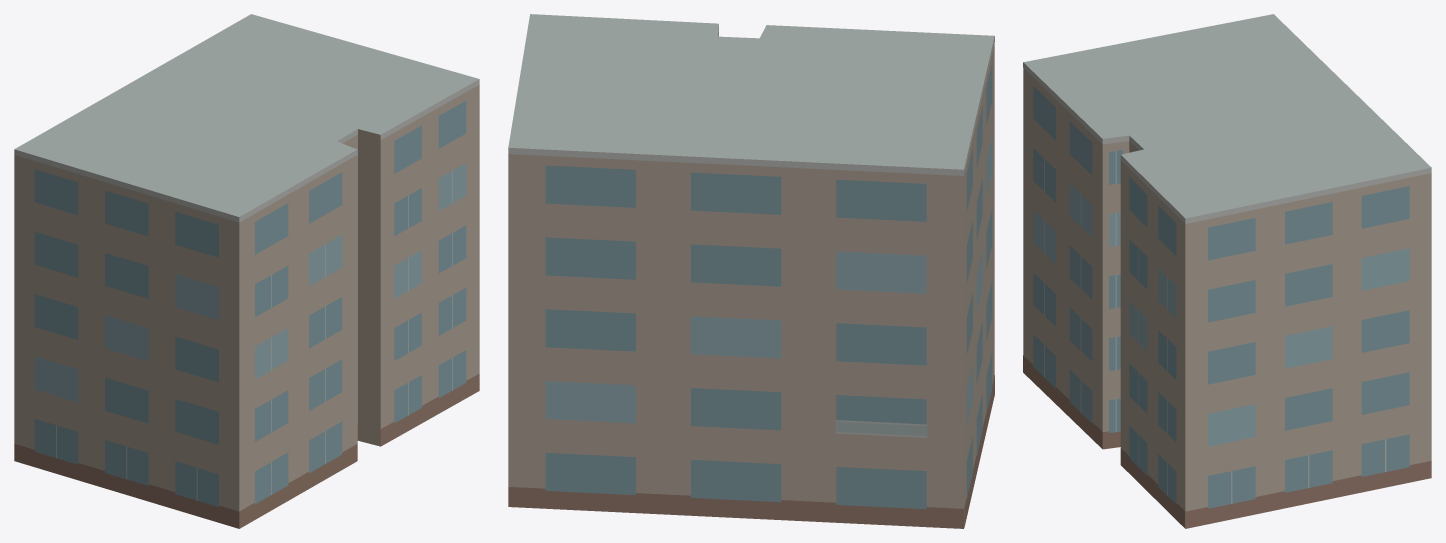
The model's file is survey-upis-32598927.glb.
3 views of the same model, side by side, from view 1: azimuth 30°, elevation 25°; view 2: azimuth 150°, elevation 25°; view 3: azimuth 270°, elevation 25° (orthographic). The views are drawn at different scales.
Visible parts, largest first — view 1: survey-upis-32598927.tmp; view 2: survey-upis-32598927.tmp; view 3: survey-upis-32598927.tmp.
Boxes of the visible parts, x1,y1,x2,y2 form: survey-upis-32598927.tmp: [14, 14, 479, 528]; survey-upis-32598927.tmp: [508, 14, 994, 528]; survey-upis-32598927.tmp: [1023, 14, 1431, 528].
Size of the model in its own units: 19.8 by 14 by 16.71.
